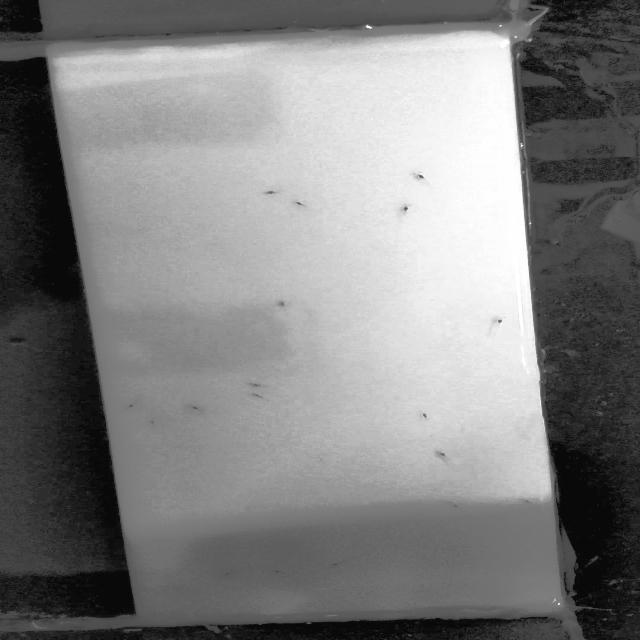shrimp: (319, 556, 365, 580), (260, 290, 303, 314), (397, 164, 443, 184), (177, 396, 220, 416), (511, 491, 547, 514), (441, 493, 476, 515), (132, 412, 170, 432), (258, 564, 300, 582), (237, 378, 289, 392), (412, 410, 453, 426), (110, 397, 148, 414), (388, 200, 422, 217), (424, 441, 450, 459), (480, 313, 509, 329), (252, 186, 284, 200), (212, 567, 245, 580), (292, 197, 309, 210), (251, 391, 273, 401)
